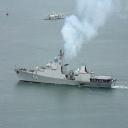Fragata: (15, 46, 118, 90)
